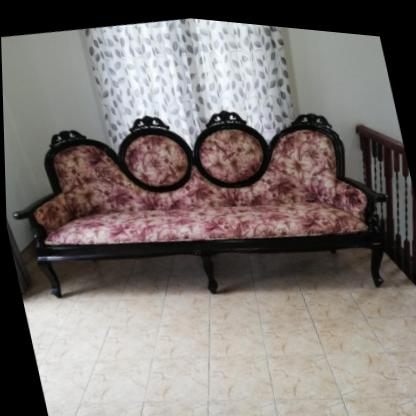Ceramic floor: (21, 281, 416, 416)
Curtains: (82, 14, 298, 151)
Sofa: (1, 60, 406, 349)
